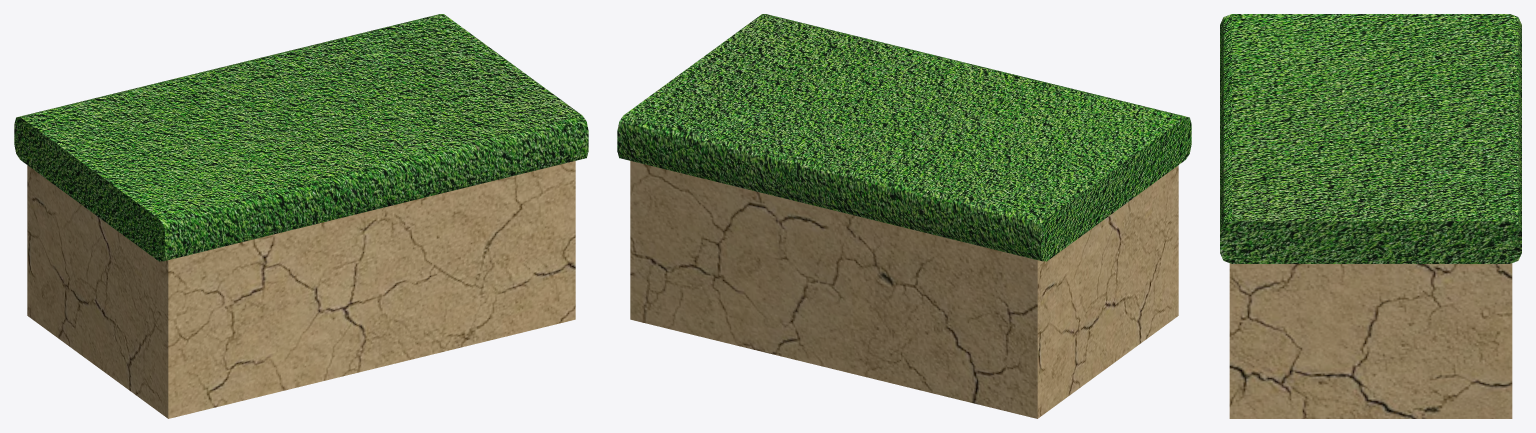
File: plataformaRectangular.fbx
3 renders of one model, left to right at view 1: azimuth 30°, elevation 25°; view 2: azimuth 150°, elevation 25°; view 3: azimuth 270°, elevation 25°, orthographic.
Parts seen in each view (by area): view 1: plataformaRectangular, tapaPlataformaRectangular3; view 2: plataformaRectangular, tapaPlataformaRectangular3; view 3: tapaPlataformaRectangular3, plataformaRectangular.
Part boxes in pixels (box(x1,y1,x2,y2)): plataformaRectangular: box(27, 161, 575, 418); tapaPlataformaRectangular3: box(14, 14, 588, 261); plataformaRectangular: box(630, 161, 1178, 418); tapaPlataformaRectangular3: box(617, 14, 1191, 261); tapaPlataformaRectangular3: box(1220, 14, 1521, 263); plataformaRectangular: box(1229, 263, 1512, 418).
Bounding box in the file's own units: 5.2 × 2.36 × 3.2.
